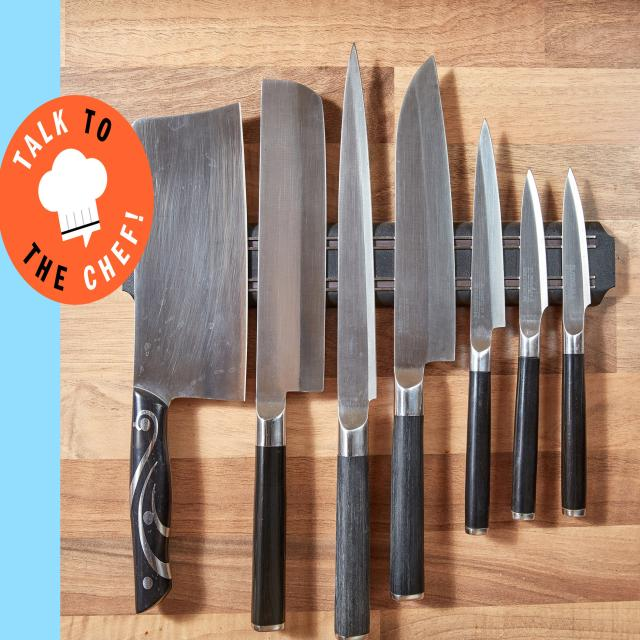Weapon: (129, 103, 247, 613), (252, 79, 326, 631), (390, 57, 455, 598), (335, 45, 376, 640), (465, 120, 505, 534)
